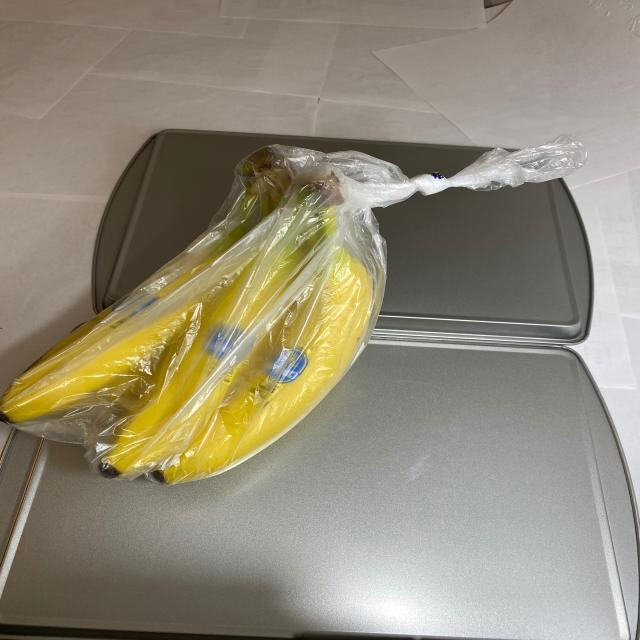banana: (2, 139, 397, 508)
